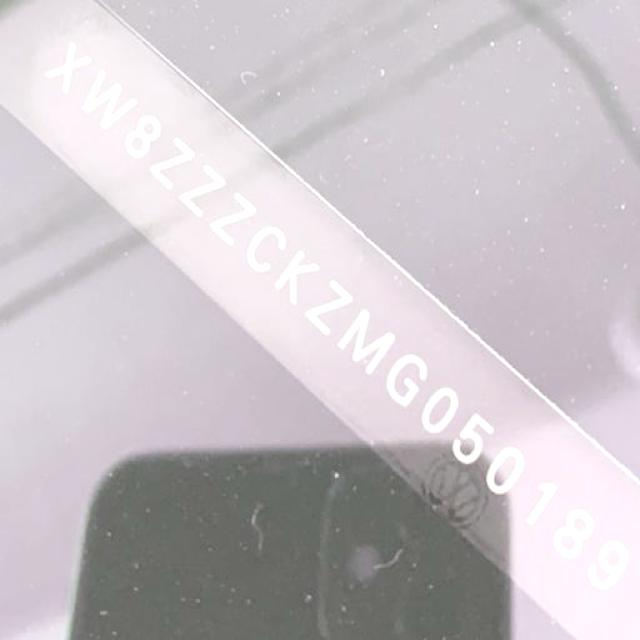0: (472, 430, 538, 512), (410, 373, 469, 449)
1: (512, 467, 567, 538)
5: (442, 401, 502, 478)
8: (542, 497, 608, 573), (112, 97, 175, 169)
9: (577, 528, 637, 601)
C: (233, 215, 300, 286)
G: (369, 343, 438, 424)
K: (264, 241, 330, 313)
M: (331, 304, 404, 387)
W: (71, 62, 142, 144)
X: (38, 30, 99, 109)
Z: (197, 185, 267, 255), (295, 270, 358, 347), (171, 156, 233, 229), (139, 132, 201, 196)
